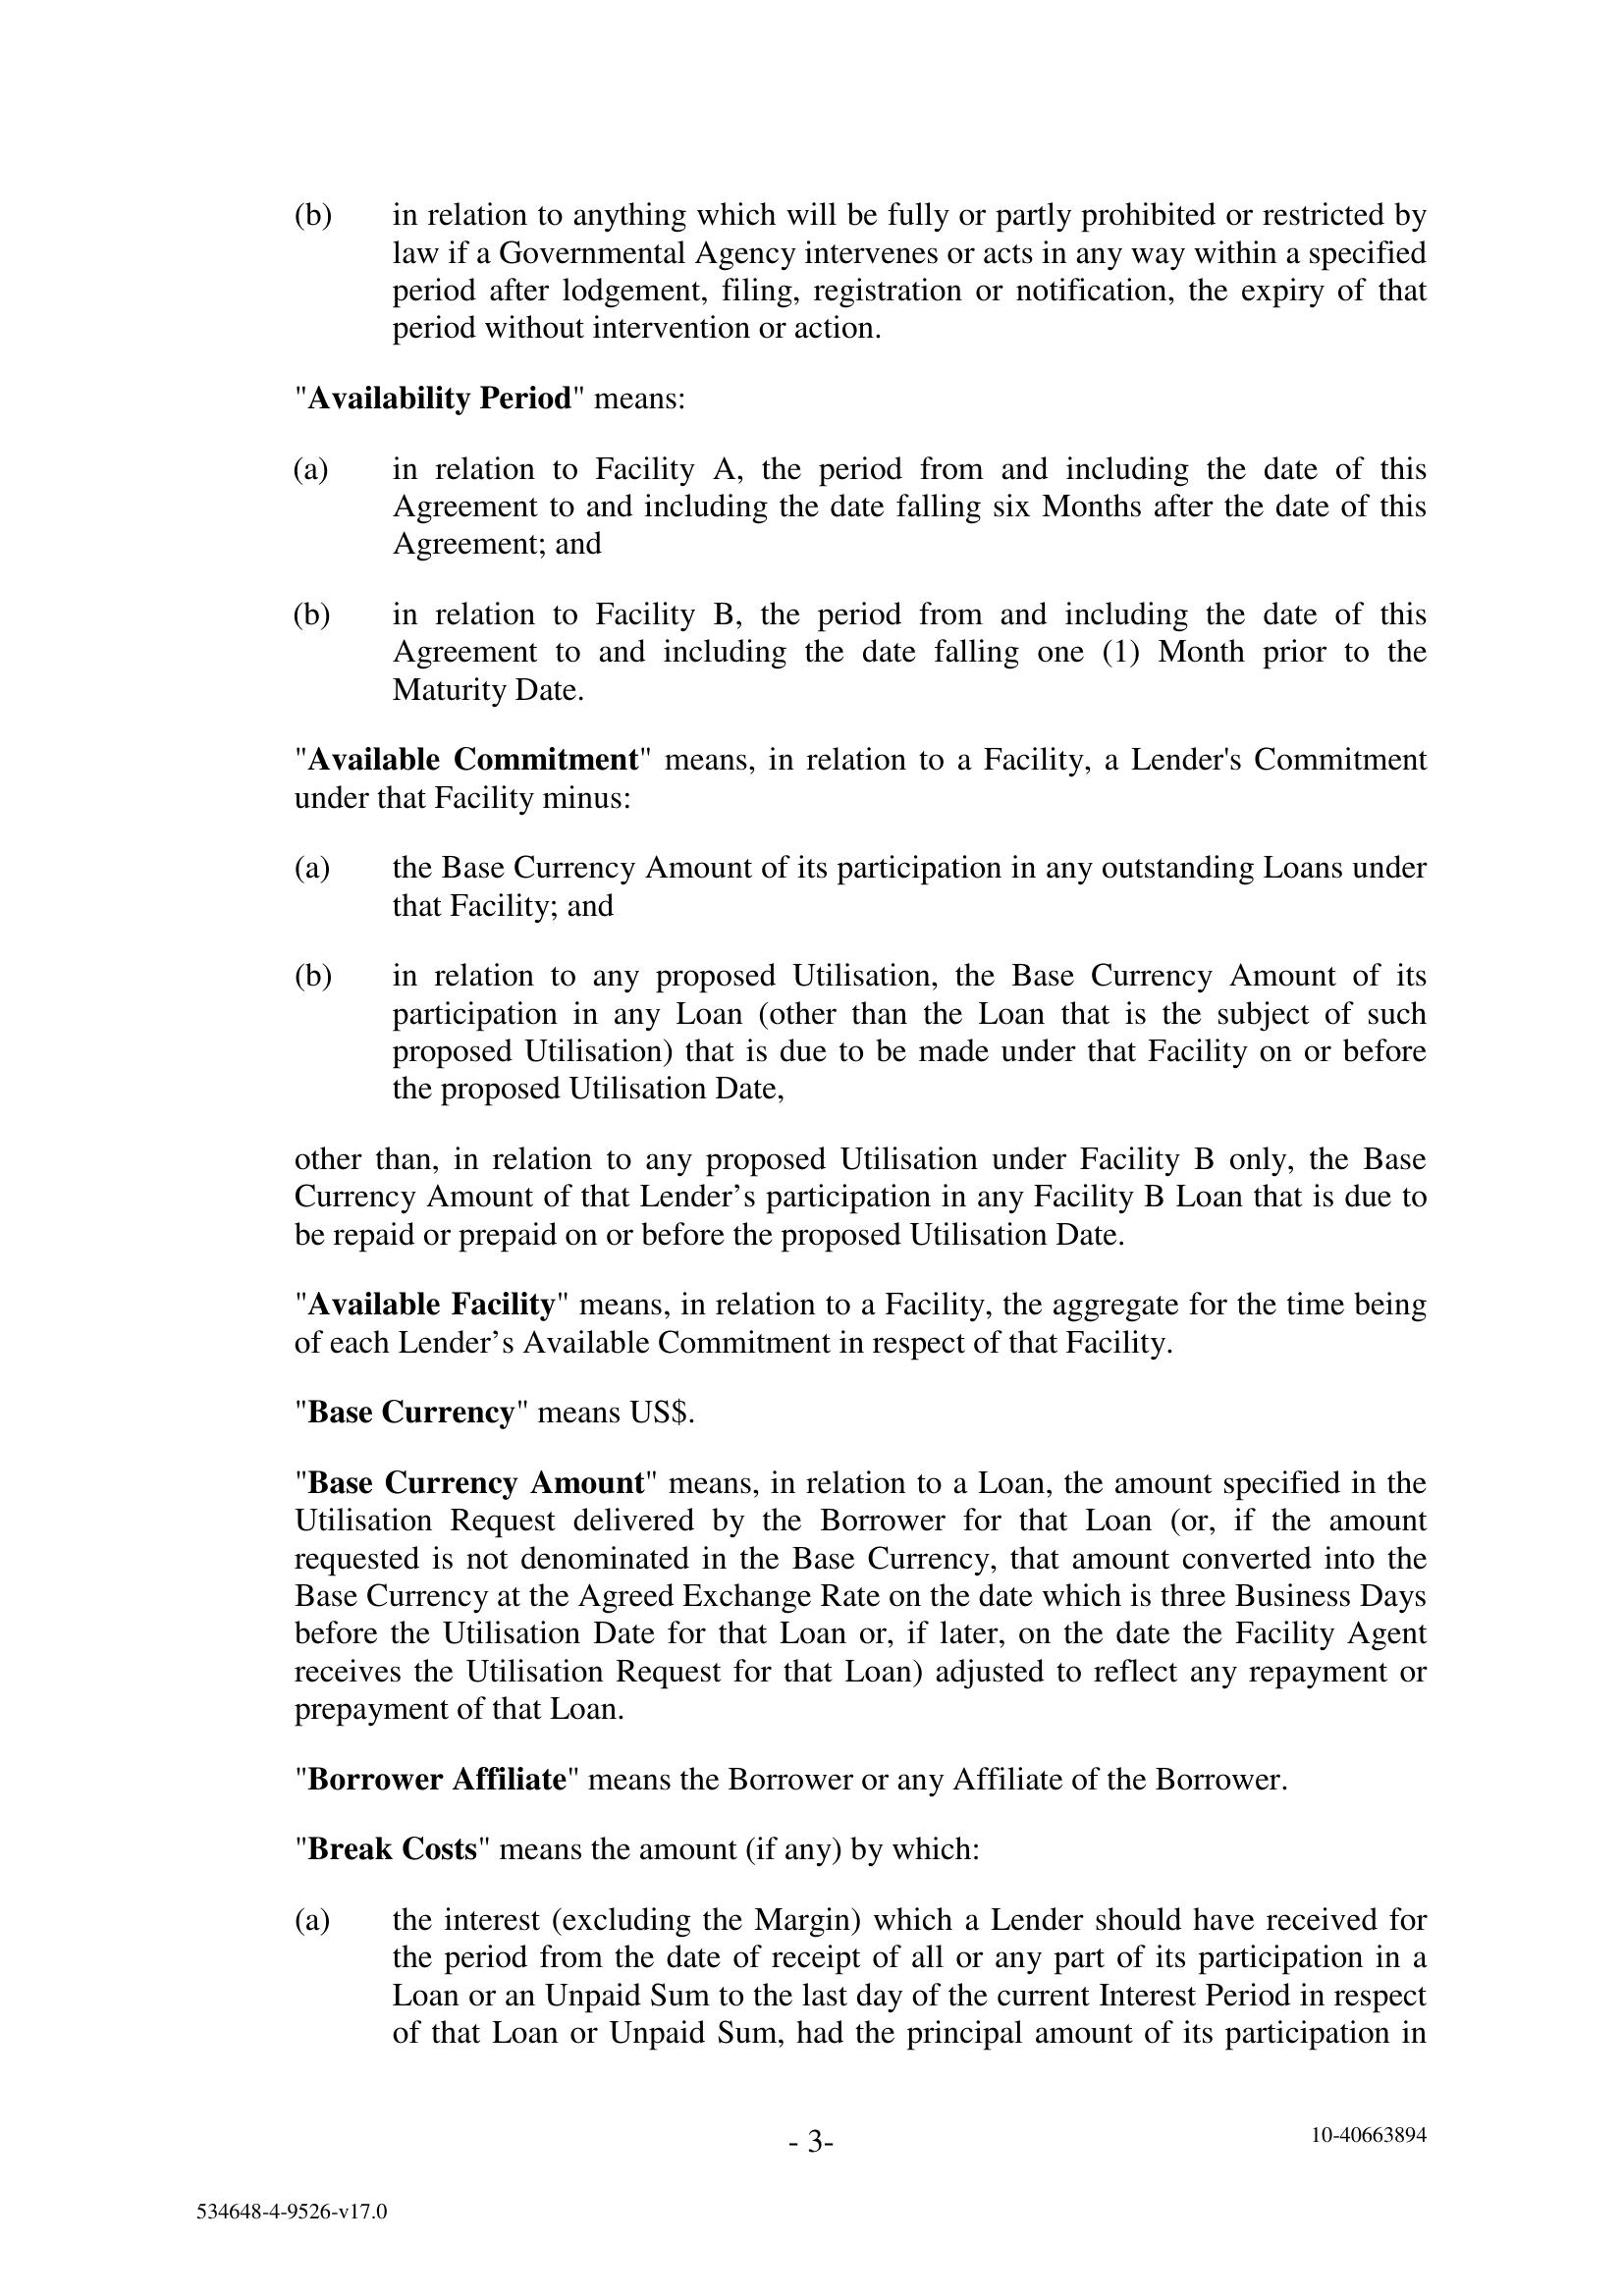pageno: (734, 2087, 887, 2203)
tag: (95, 2164, 499, 2266), (1203, 2087, 1549, 2191)
